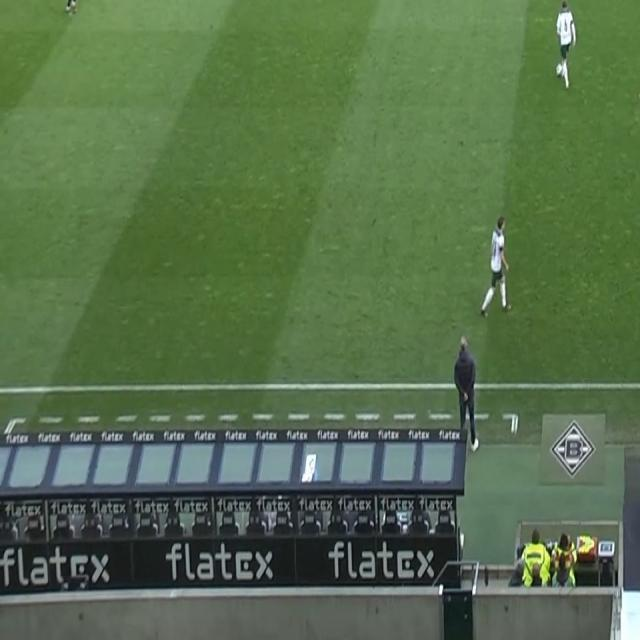ball: (555, 62, 563, 78)
